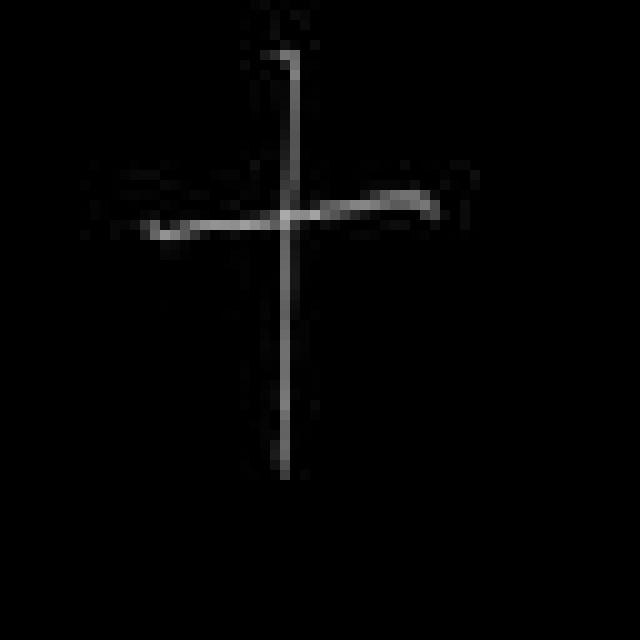10 -ten-: (136, 38, 450, 484)
